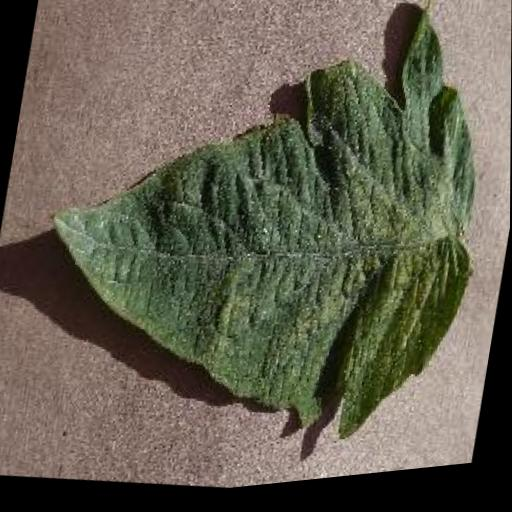Spider Mites: (14, 0, 508, 490)
